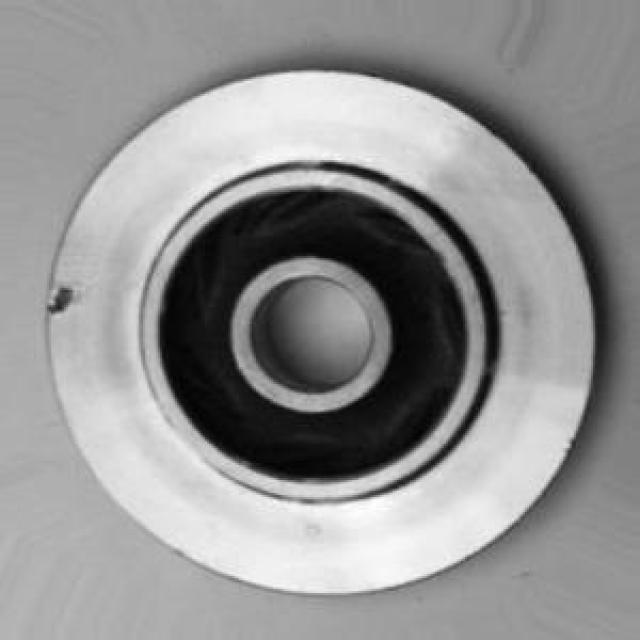Defect: (45, 281, 88, 319)
